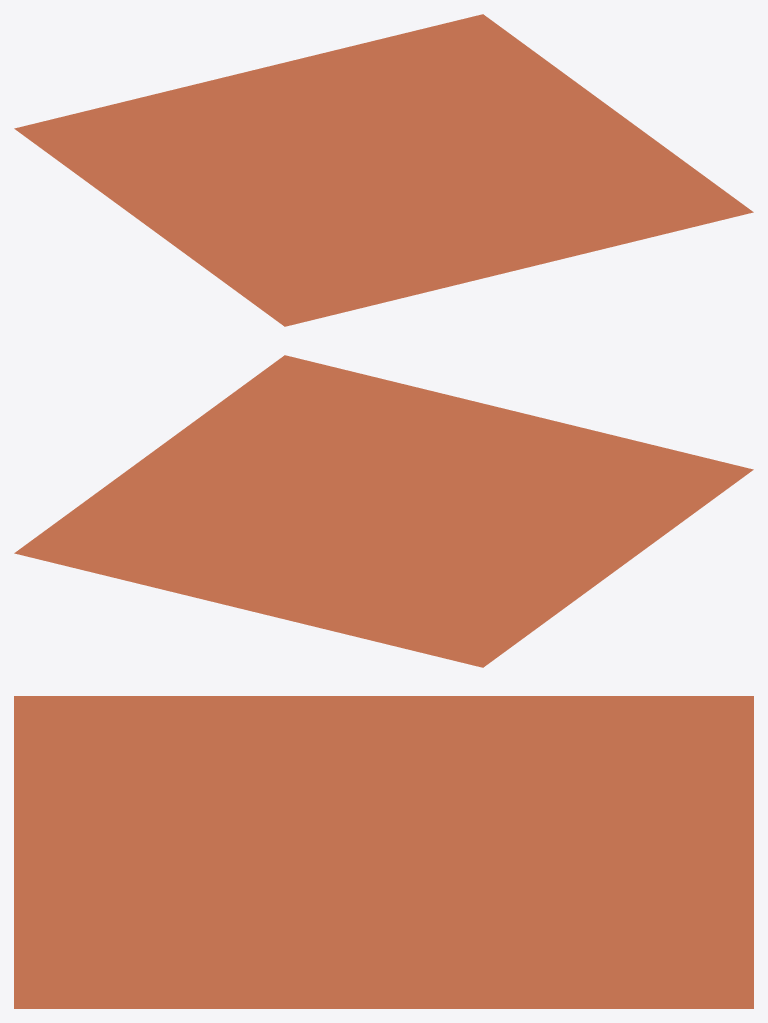
File: WaterTileFix.fbx
3 renders of one model, top to bottom at view 1: azimuth 30°, elevation 25°; view 2: azimuth 150°, elevation 25°; view 3: azimuth 270°, elevation 25°, orthographic. The views are drawn at different scales.
Visible parts, largest first — view 1: WaterPlane8; view 2: WaterPlane8; view 3: WaterPlane8.
Part boxes in pixels (<box>): WaterPlane8: <box>14,14,753,326</box>; WaterPlane8: <box>14,355,753,667</box>; WaterPlane8: <box>14,696,753,1008</box>.
Bounding box in the file's own units: 10 × 0 × 10.
